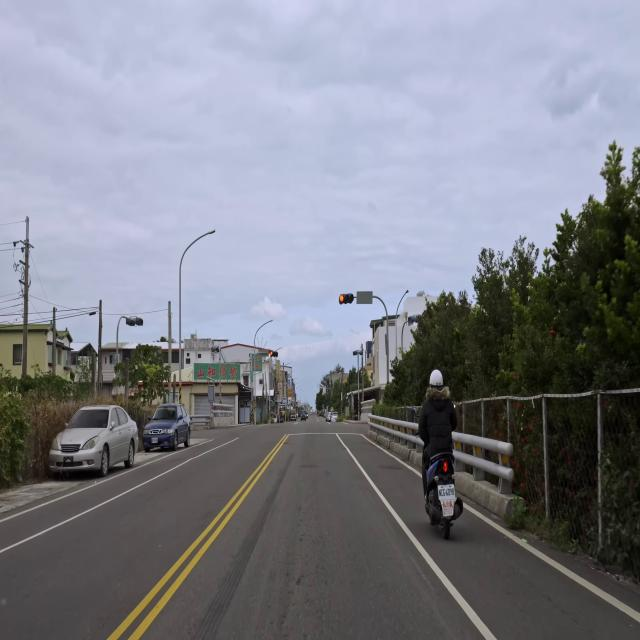red light: (339, 293, 353, 303), (270, 351, 278, 357)
